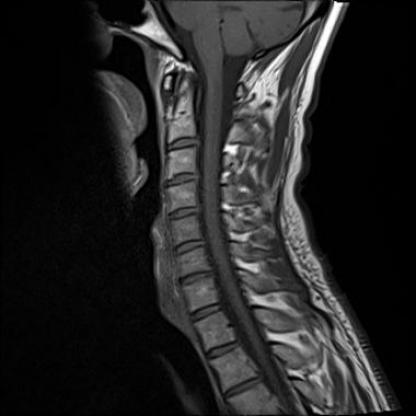Disc Bulgerotation: (178, 270, 215, 285), (167, 207, 201, 221)
